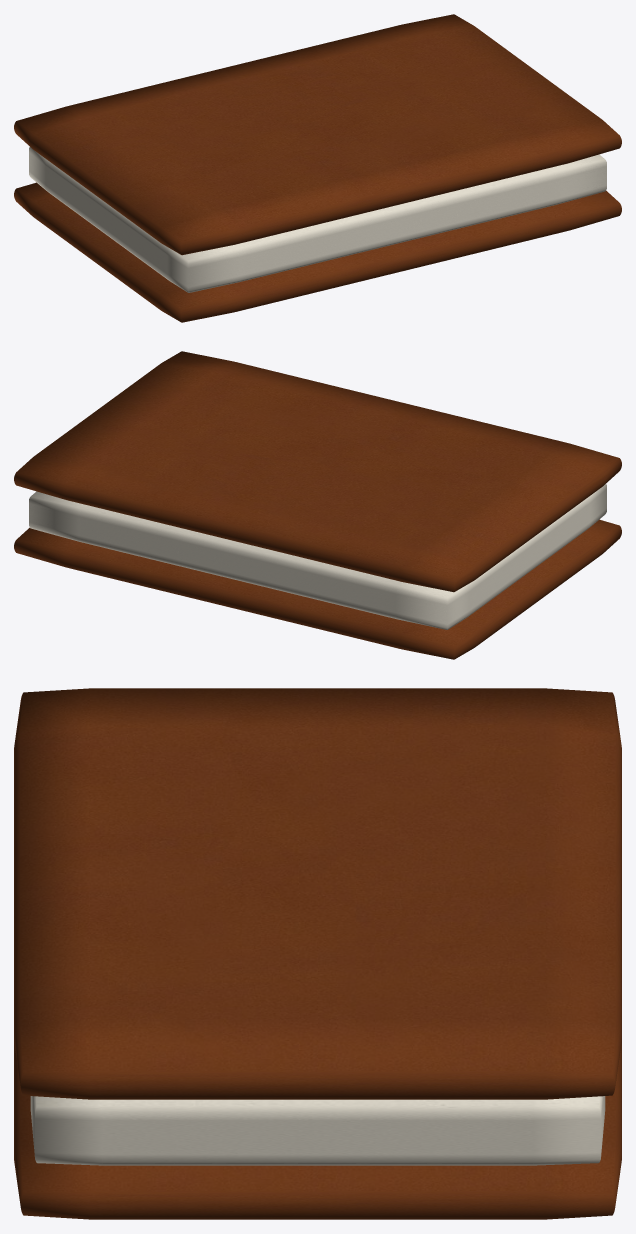
File: library_book_1.glb
3 views of the same model, one above another, from view 1: azimuth 30°, elevation 25°; view 2: azimuth 150°, elevation 25°; view 3: azimuth 270°, elevation 25° (orthographic). The views are drawn at different scales.
Bounding box in the file's own units: 2.22 × 0.43 × 1.47.
2 materials, 2 textured.
